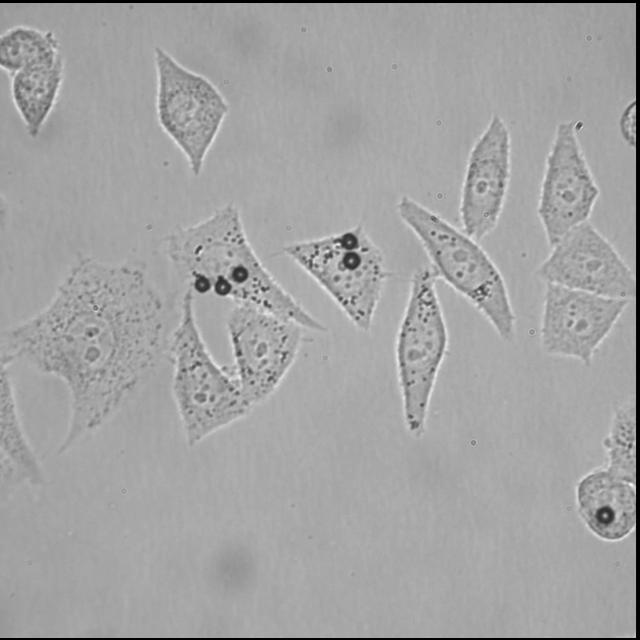microbeads: (340, 250, 364, 270), (213, 277, 235, 297), (231, 263, 251, 283), (341, 230, 361, 250), (595, 503, 615, 523), (193, 275, 213, 293)
